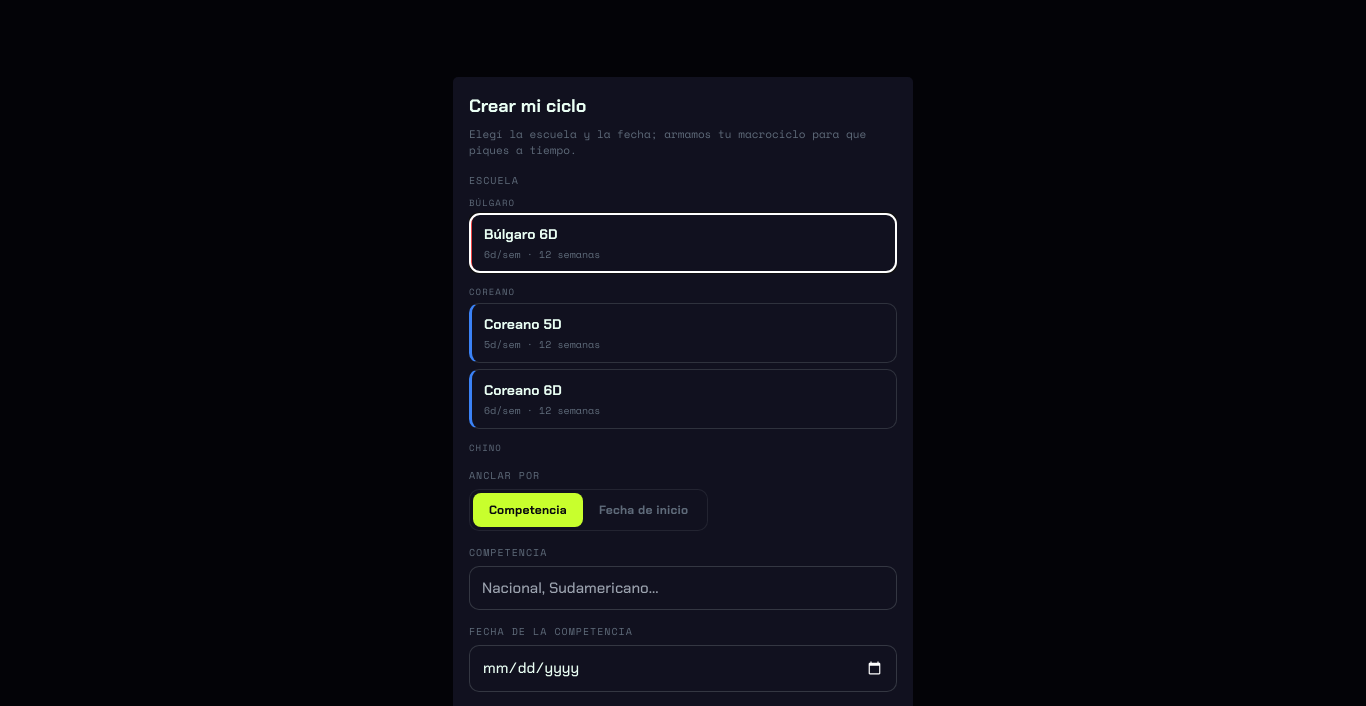
CrearCicloSheet › submit deshabilitado sin RMs válidos (sólo escuela elegida)
Click the radio button labelled "Búlgaro 6D" at (521, 234), box [469, 213, 897, 273]
(page scrolled)
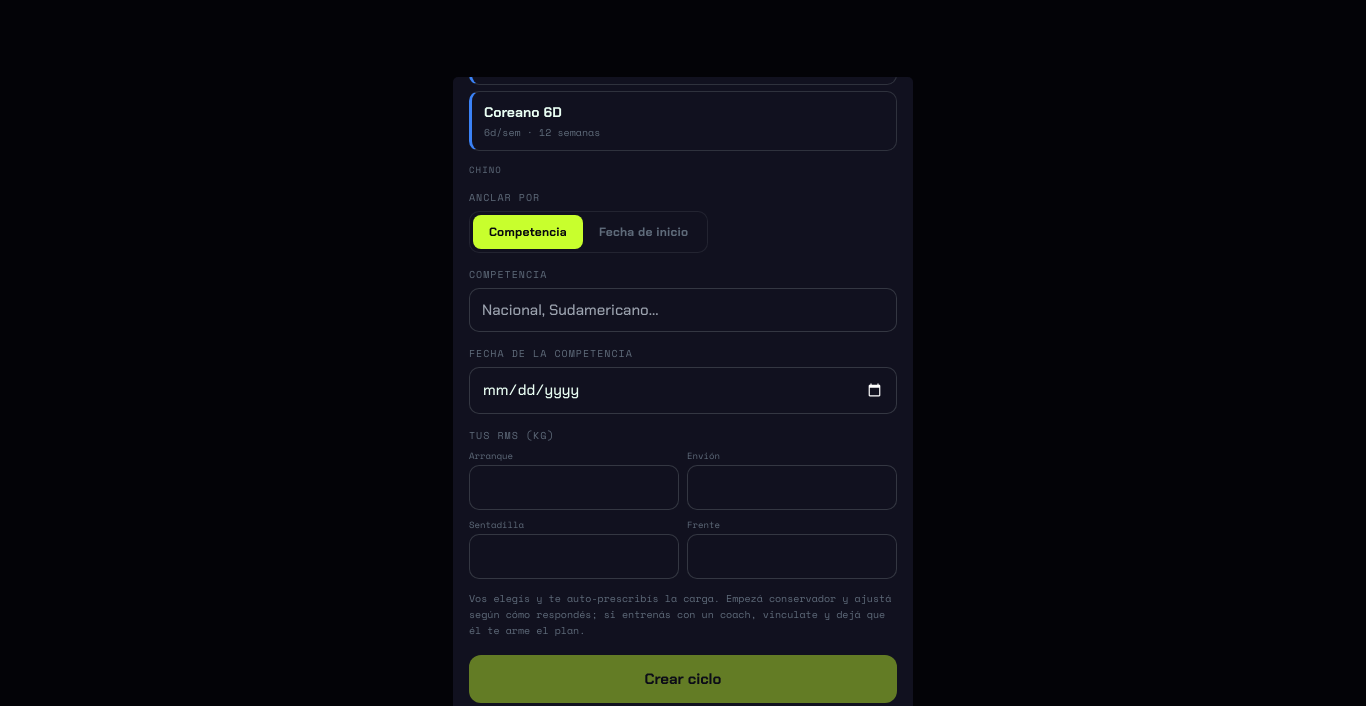
Check: the button "Crear ciclo" is disabled, box [469, 655, 897, 703]
